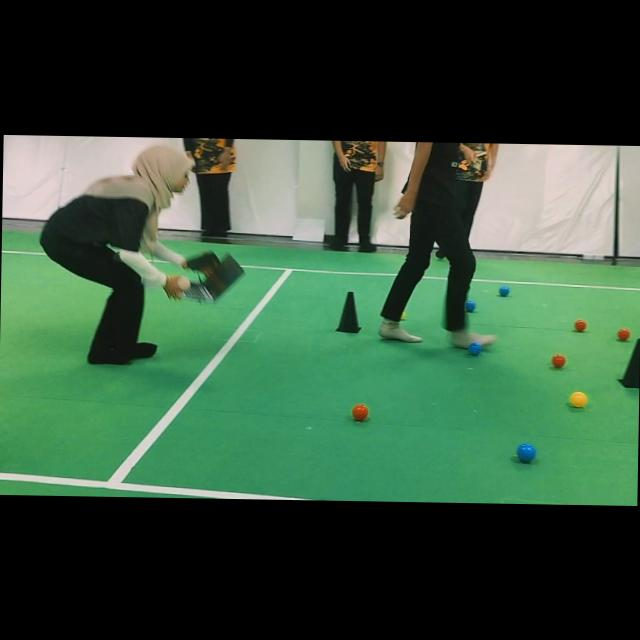ball: (516, 442, 535, 462), (569, 391, 587, 407), (467, 341, 482, 355), (552, 353, 566, 368), (617, 328, 631, 340), (574, 318, 586, 331), (498, 286, 509, 296), (465, 300, 475, 311), (515, 444, 521, 453)
